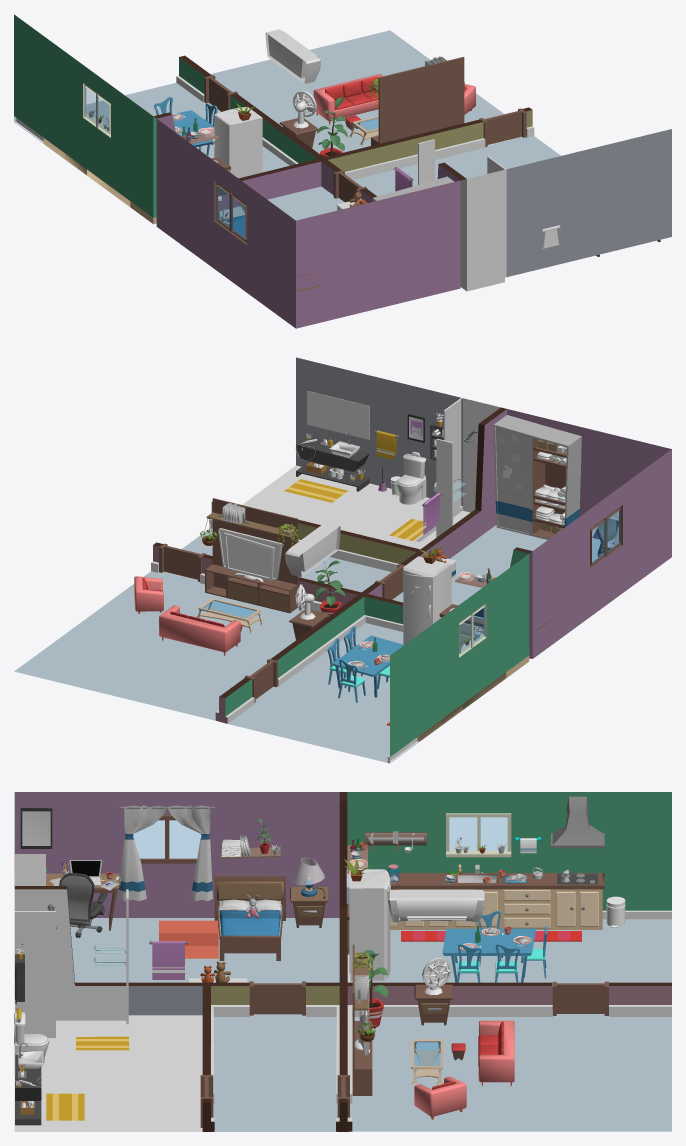
The model's file is CasaSustentavelV1.fbx.
3 views of the same model, one above another, from view 1: azimuth 30°, elevation 25°; view 2: azimuth 150°, elevation 25°; view 3: azimuth 270°, elevation 25° (orthographic). The views are drawn at different scales.
Parts seen in each view (by area): view 1: Plane, Cube.124, Cube.010, Cube.028, Plane.003, Cube.033, Cube.062, Cube.034, Cube.035, Cube.134, Plane.001, Cube.011 (+3 smaller); view 2: Plane, Cube.088, Cube.124, Cube.062, Cube.028, Cube.058, Cube.005, Cube.057, Cube.036, Cube.011, Cube.010, Plane.003 (+10 smaller); view 3: Plane, Cube.032, Cube.062, Plane.016, Cube.010, Cube.018, Cube.013, Cube.028, Cube.011, Cube.033, Cube.035, Plane.015 (+26 smaller).
Part boxes in pixels (x1,y1,x2,y2): Plane: (14, 14, 671, 328); Cube.124: (371, 57, 464, 145); Cube.010: (214, 107, 262, 178); Cube.028: (313, 74, 382, 124); Plane.003: (479, 108, 526, 146); Cube.033: (279, 91, 318, 148); Cube.062: (418, 139, 506, 277); Cube.034: (265, 29, 320, 83); Cube.035: (268, 30, 319, 78); Cube.134: (317, 97, 347, 157); Plane.001: (204, 75, 237, 111); Cube.011: (173, 110, 214, 146); Plane: (14, 357, 671, 763); Cube.088: (493, 415, 581, 539); Cube.124: (205, 498, 298, 613); Cube.062: (436, 398, 462, 537); Cube.028: (159, 605, 240, 655); Cube.058: (307, 391, 369, 439); Cube.005: (405, 563, 450, 644); Cube.057: (296, 437, 369, 491); Cube.036: (224, 532, 274, 580); Cube.011: (332, 635, 403, 697); Cube.010: (403, 556, 451, 644); Plane.003: (159, 543, 206, 581); Plane: (14, 792, 671, 1131); Cube.032: (214, 876, 285, 960); Cube.062: (14, 889, 128, 1037); Plane.016: (118, 805, 212, 901); Cube.010: (349, 870, 389, 980); Cube.018: (502, 873, 552, 929); Cube.013: (552, 873, 604, 929); Cube.028: (478, 1020, 514, 1086); Cube.011: (442, 928, 535, 982); Cube.033: (414, 957, 452, 1025); Cube.035: (396, 889, 477, 921); Plane.015: (159, 920, 218, 958).
Bounding box in the file's own units: 3239 × 926 × 4210.
